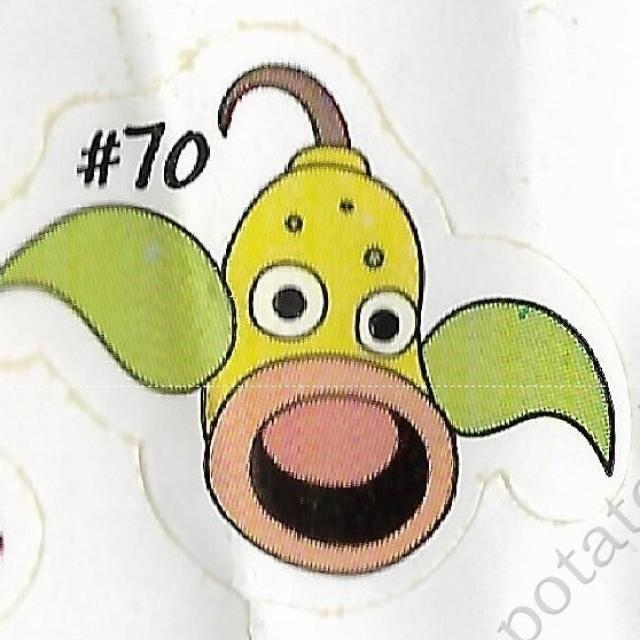Weepinbell: (199, 134, 470, 576)
